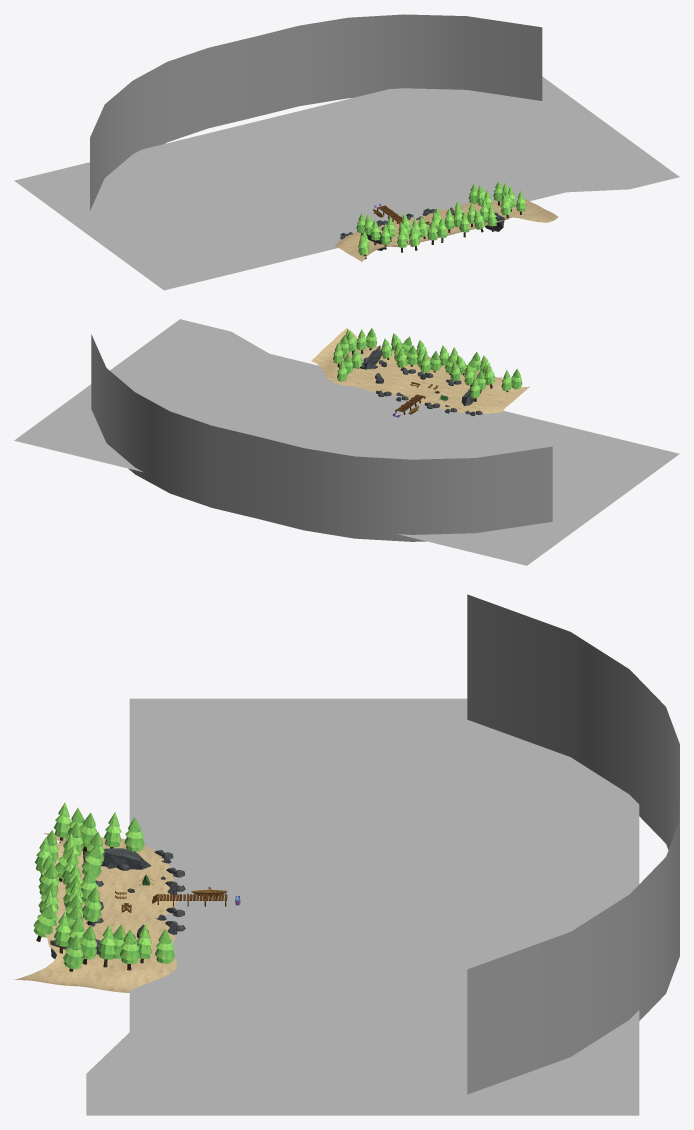
Rendered from lakeside.fbx.
3 views of the same model, one above another, from view 1: azimuth 30°, elevation 25°; view 2: azimuth 150°, elevation 25°; view 3: azimuth 270°, elevation 25° (orthographic). The views are drawn at different scales.
Visible parts, largest first — view 1: pPlane1, pPlane3, pPlane2; view 2: pPlane1, pPlane3, pPlane2; view 3: pPlane1, pPlane3, pPlane2.
Boxes of the visible parts, bbox=[...] form: pPlane1: bbox=[14, 76, 679, 290]; pPlane3: bbox=[90, 14, 542, 210]; pPlane2: bbox=[335, 199, 557, 261]; pPlane1: bbox=[14, 319, 679, 565]; pPlane3: bbox=[91, 334, 552, 541]; pPlane2: bbox=[311, 328, 529, 413]; pPlane1: bbox=[86, 698, 639, 1115]; pPlane3: bbox=[467, 594, 679, 1094]; pPlane2: bbox=[14, 833, 176, 992].
Bounding box in the file's own units: 142 × 21.97 × 95.95.
14 materials, 7 textured.
